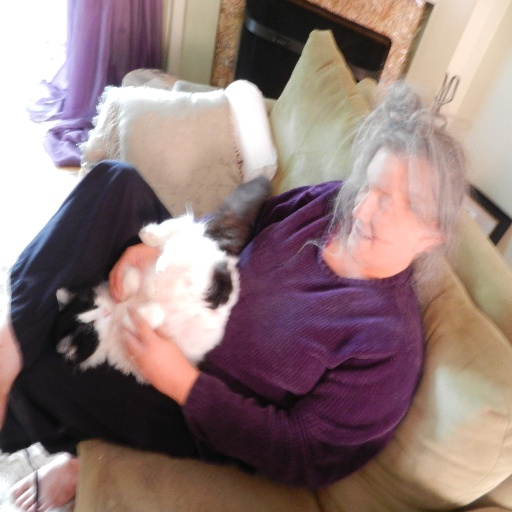hand: (119, 305, 181, 394), (109, 240, 160, 304)
